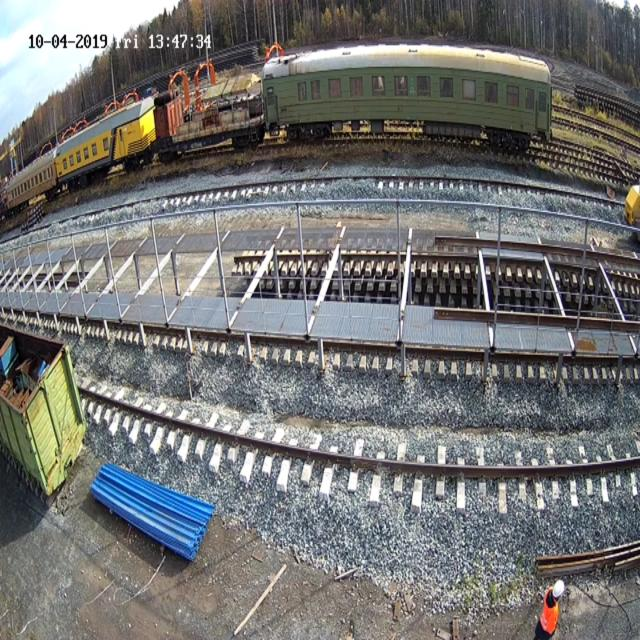Helmet: (552, 578, 565, 598)
Person: (533, 578, 565, 640)
